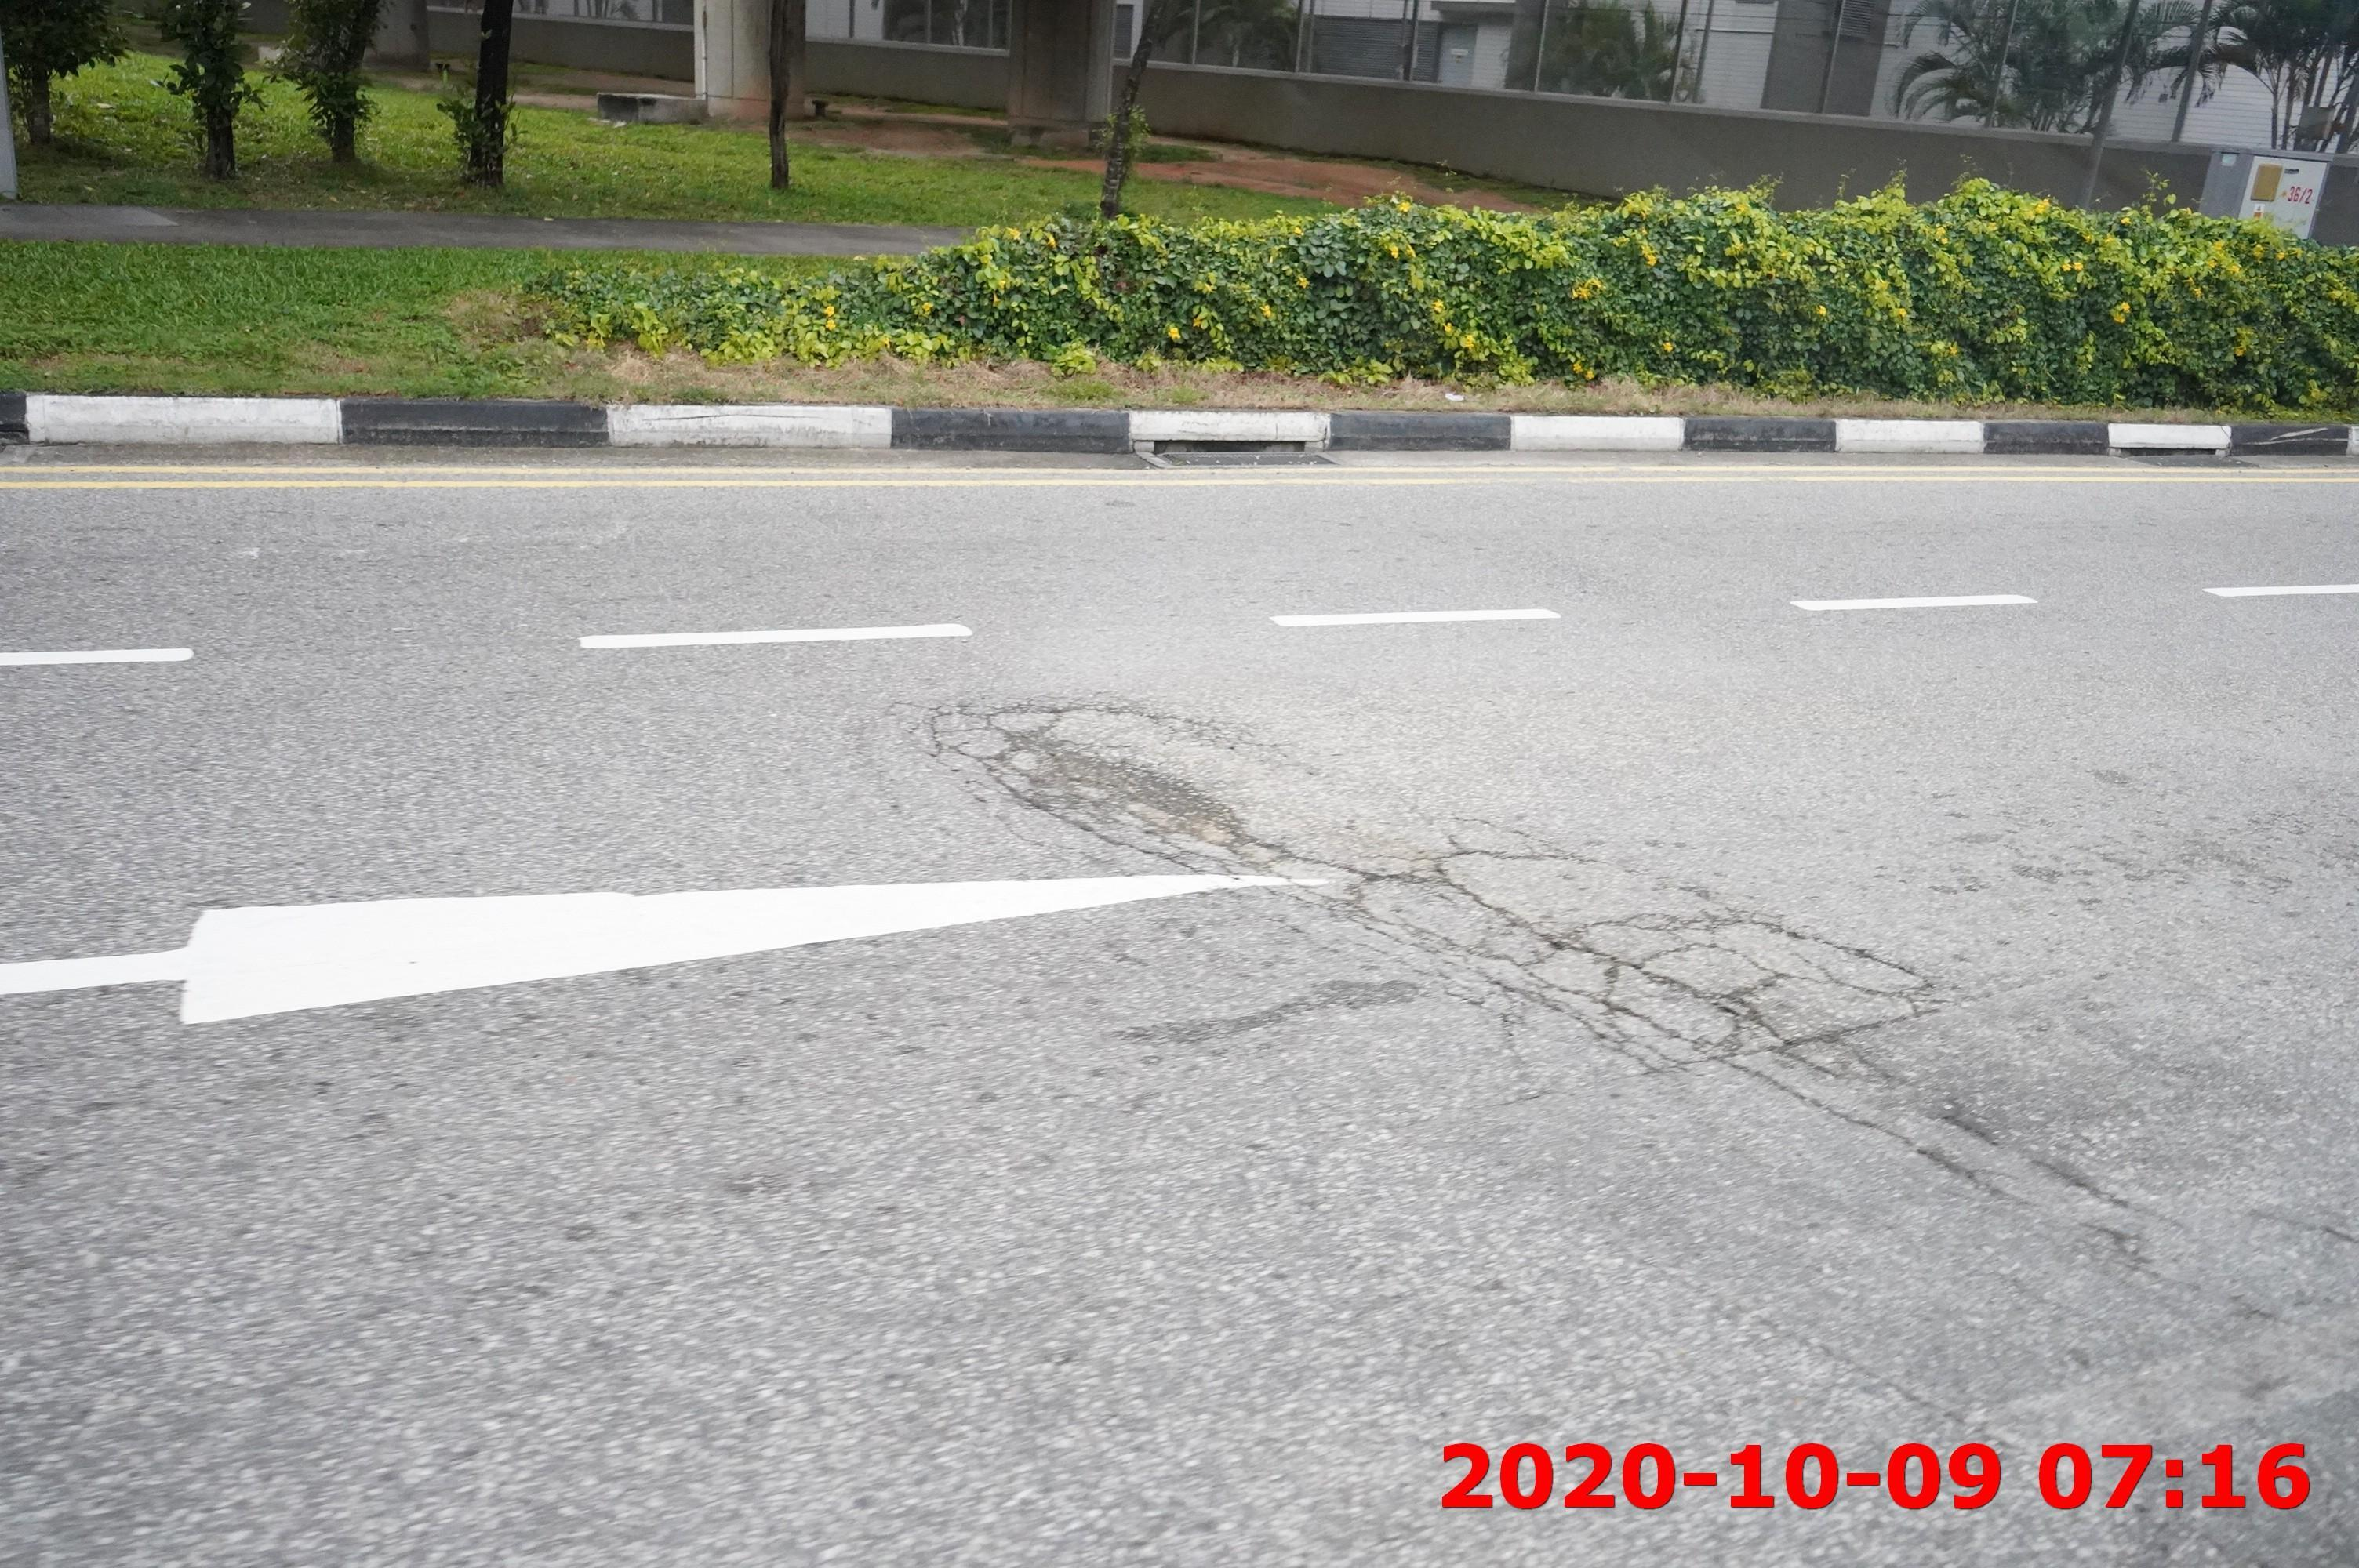alligator crack: (1312, 810, 1976, 1102)
wearing course peeling off: (879, 679, 1330, 886)
